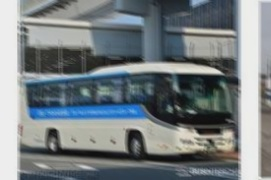bus: (22, 63, 234, 160)
